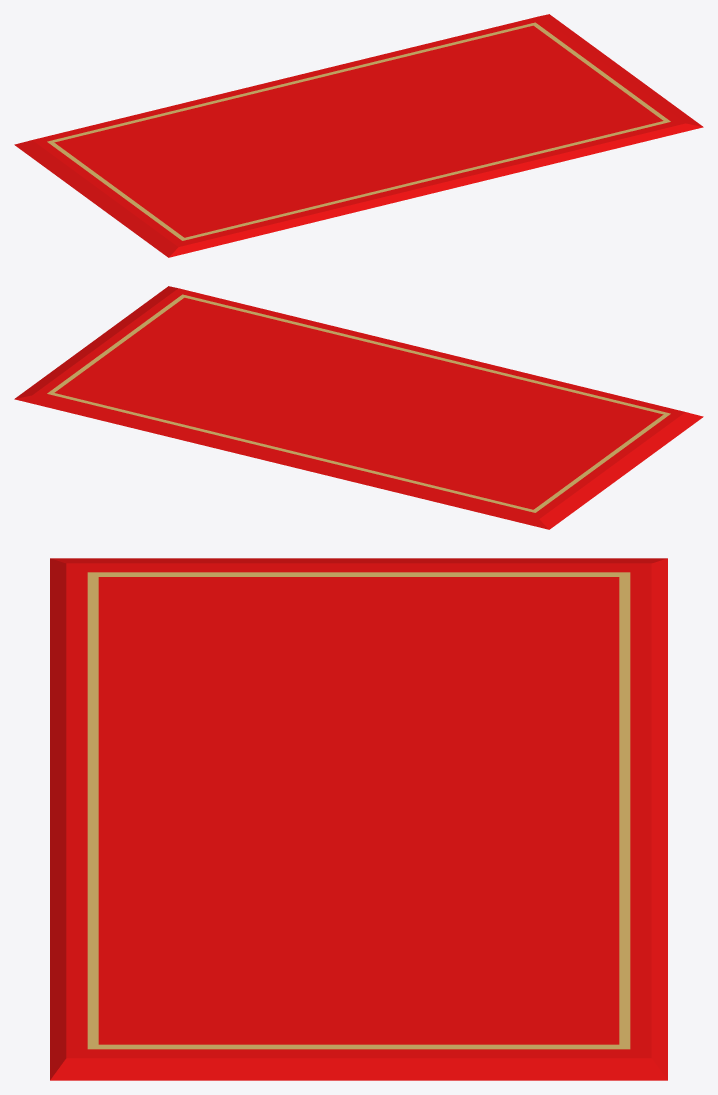
The model's file is Rug.fbx.
The picture shows the model from 3 angles, top to bottom: view 1: azimuth 30°, elevation 25°; view 2: azimuth 150°, elevation 25°; view 3: azimuth 270°, elevation 25°; orthographic projection. The views are drawn at different scales.
Parts seen in each view (by area): view 1: Rug; view 2: Rug; view 3: Rug.
Boxes of the visible parts, bbox=[...] form: Rug: bbox=[14, 14, 703, 257]; Rug: bbox=[14, 286, 703, 529]; Rug: bbox=[50, 558, 667, 1080].
Bounding box in the file's own units: 400 × 3.04 × 200.
